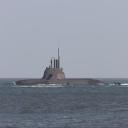submarine: (10, 39, 123, 86)
